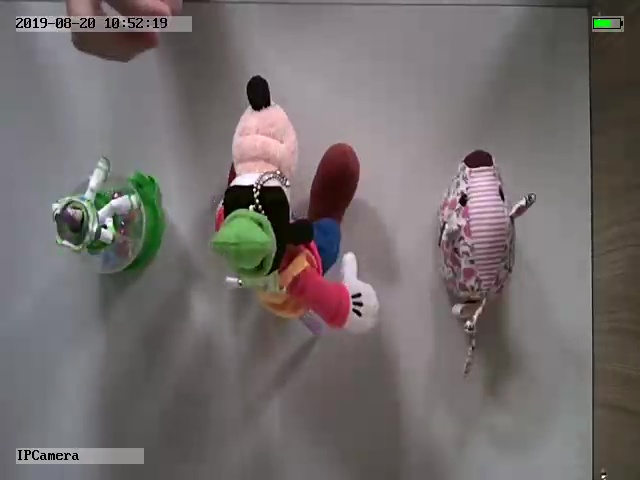buzz: (44, 153, 166, 276)
goofy: (212, 75, 380, 336)
pig: (435, 150, 536, 377)
